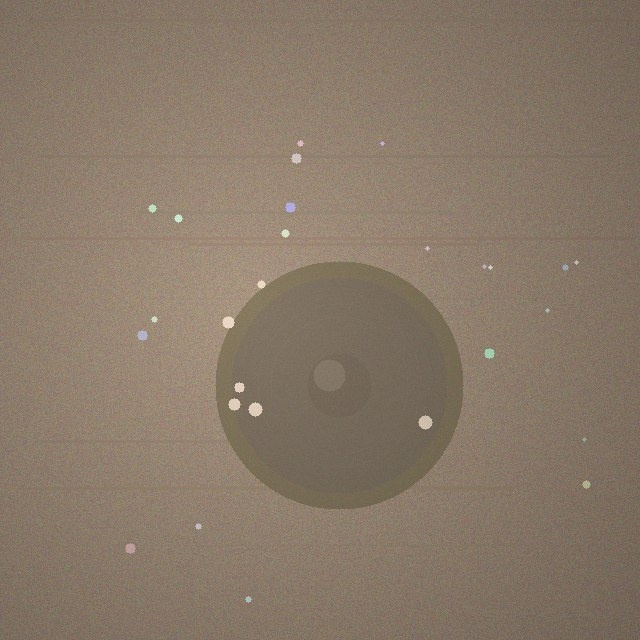overburn: (215, 261, 463, 509)
